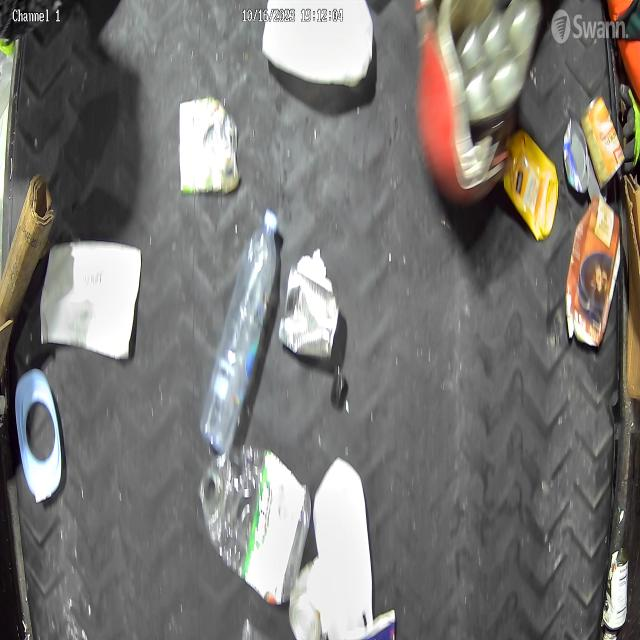can: (176, 96, 242, 196), (278, 262, 340, 364), (580, 94, 625, 190), (602, 542, 630, 634), (562, 118, 590, 196)
milk_jug: (259, 0, 374, 87)
non_white_jug: (503, 130, 559, 242)
plastic_bottle: (198, 206, 279, 456), (197, 438, 313, 608)
